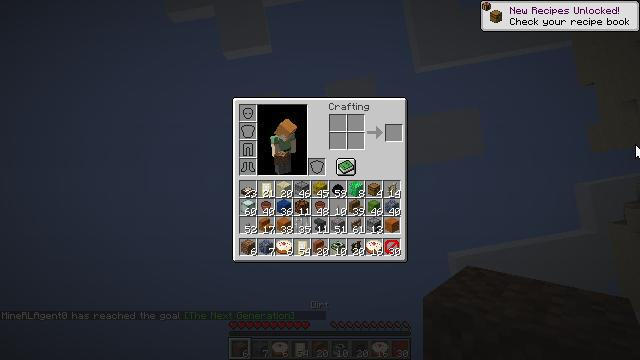cursor: (635, 144, 640, 160)
